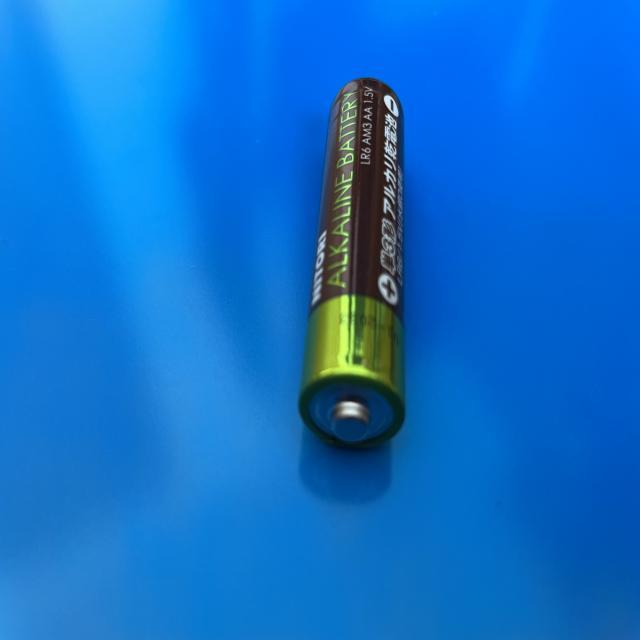hazardous waste: (295, 78, 410, 454)
